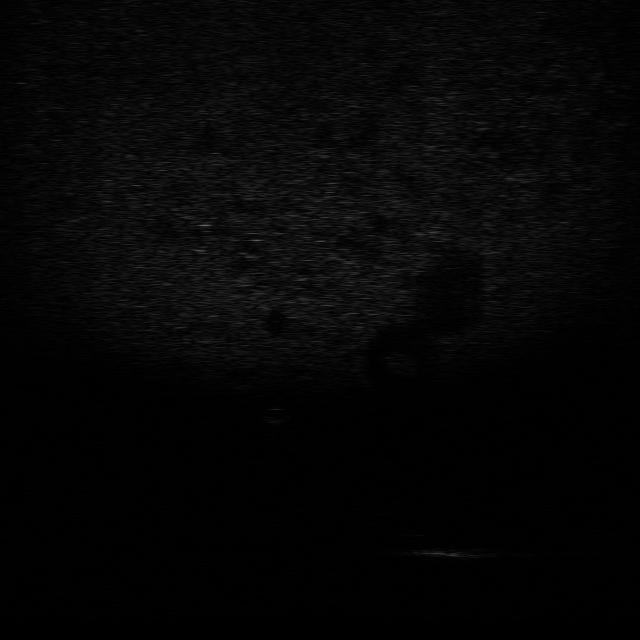ball: (258, 405, 292, 425)
metal bucket: (402, 542, 498, 564)
tyre: (365, 509, 437, 539)
